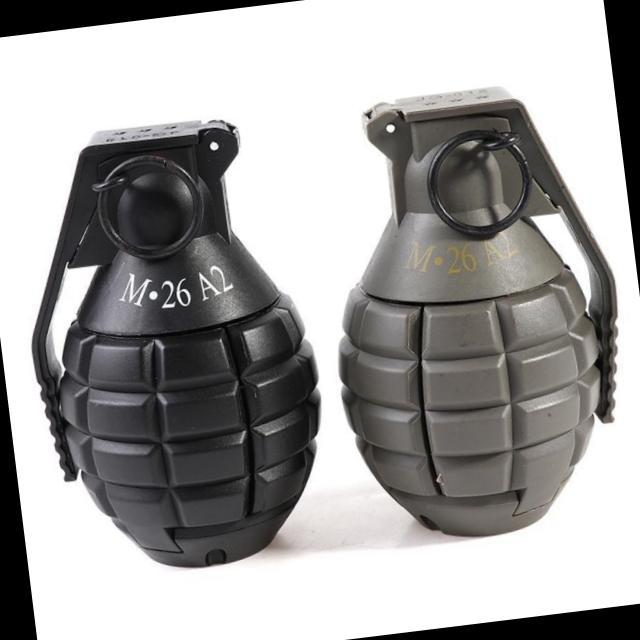grenade: (4, 97, 346, 578), (311, 76, 638, 556)
